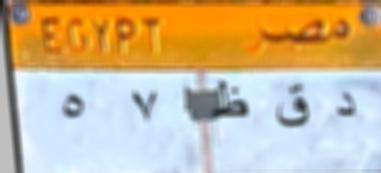5: (52, 88, 94, 127)
7: (125, 82, 166, 133)
Thaa: (209, 76, 252, 127)
daal: (328, 87, 361, 123)
qaaf: (270, 80, 313, 139)
